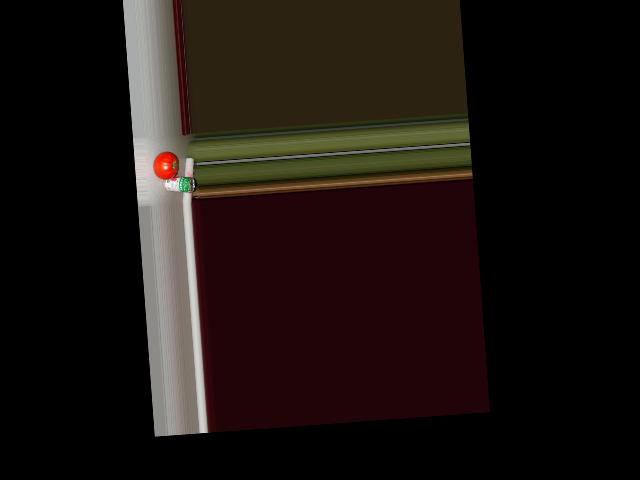tomato: (152, 151, 178, 180)
